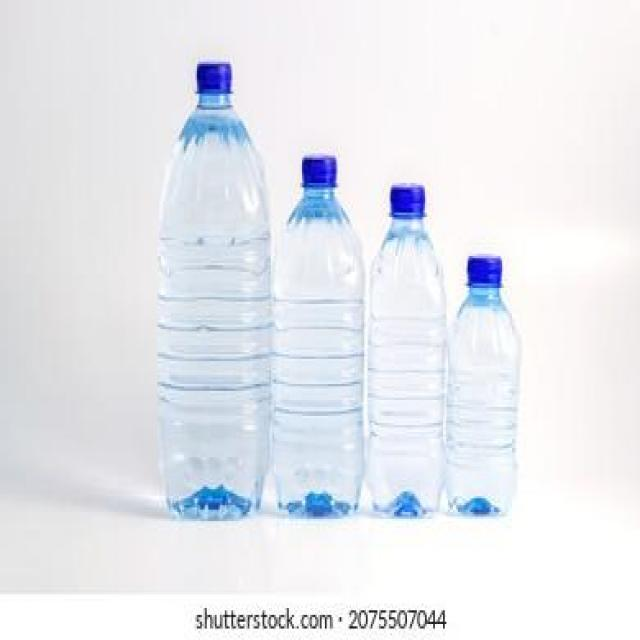bottle: (145, 60, 280, 538), (443, 249, 532, 525)
